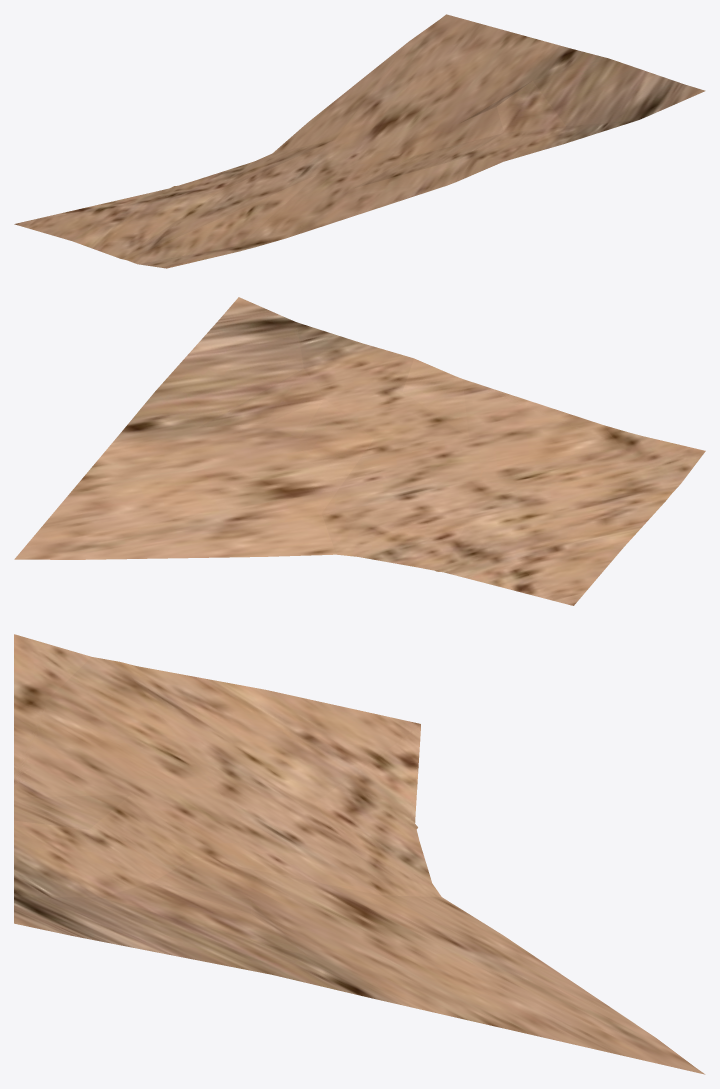
3 renders of one model, top to bottom at view 1: azimuth 30°, elevation 25°; view 2: azimuth 150°, elevation 25°; view 3: azimuth 270°, elevation 25°, orthographic. The views are drawn at different scales.
Size of the model in its own units: 1.04 by 0.2099 by 0.8705.
2 materials, 2 textured.
